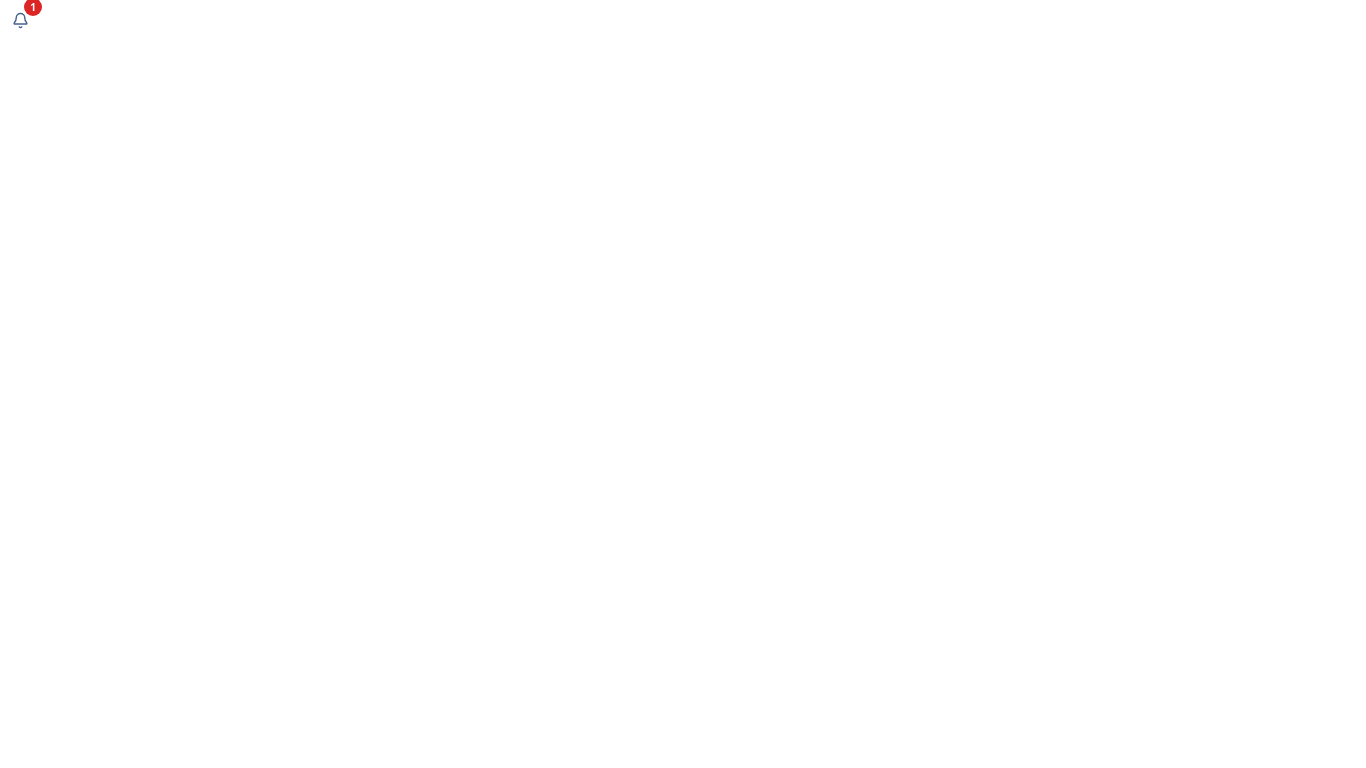
Test: CampanaNotificaciones › limpia todas las notificaciones
Click the button named "Notificaciones: 1 sin leer".
click(20, 20)  # box x1=0 y1=0 x2=40 y2=40
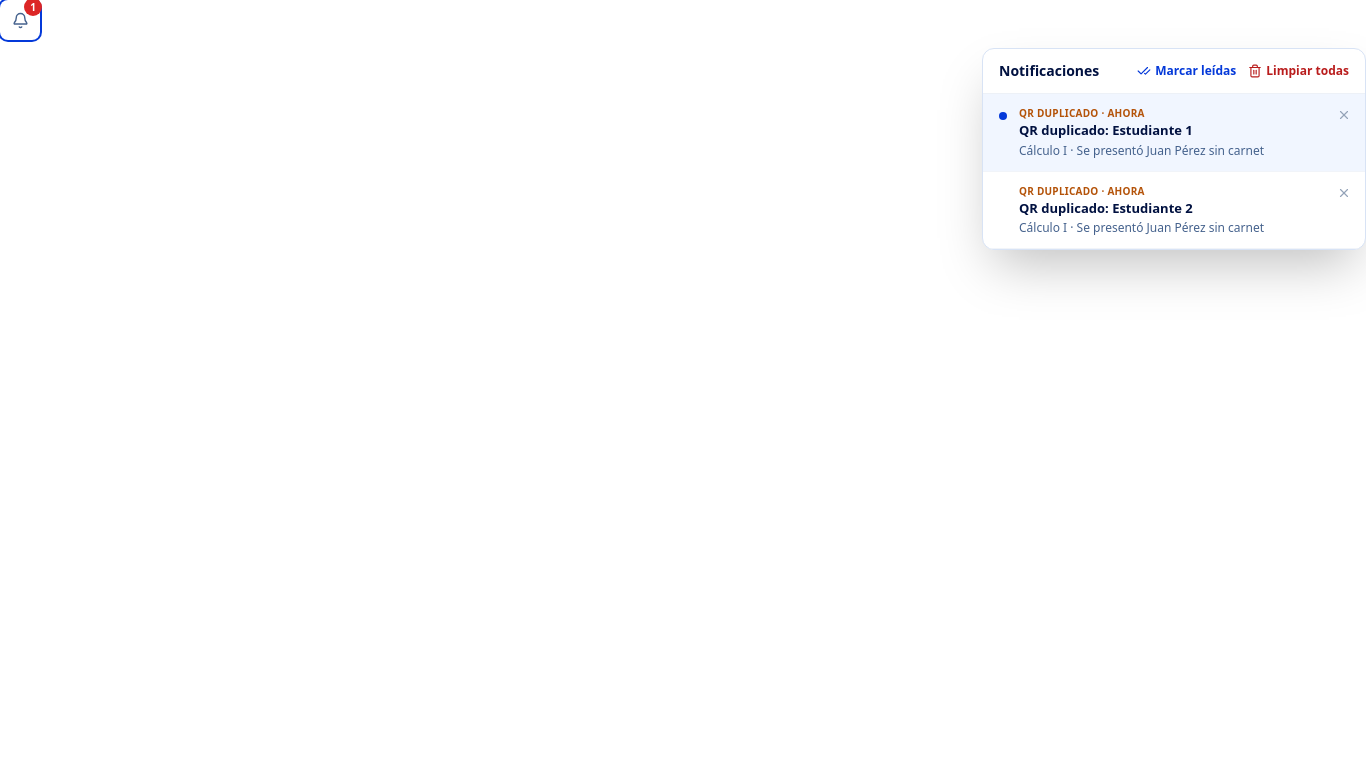
Click the button "Limpiar todas".
click(1299, 71)  # box x1=1248 y1=63 x2=1349 y2=79
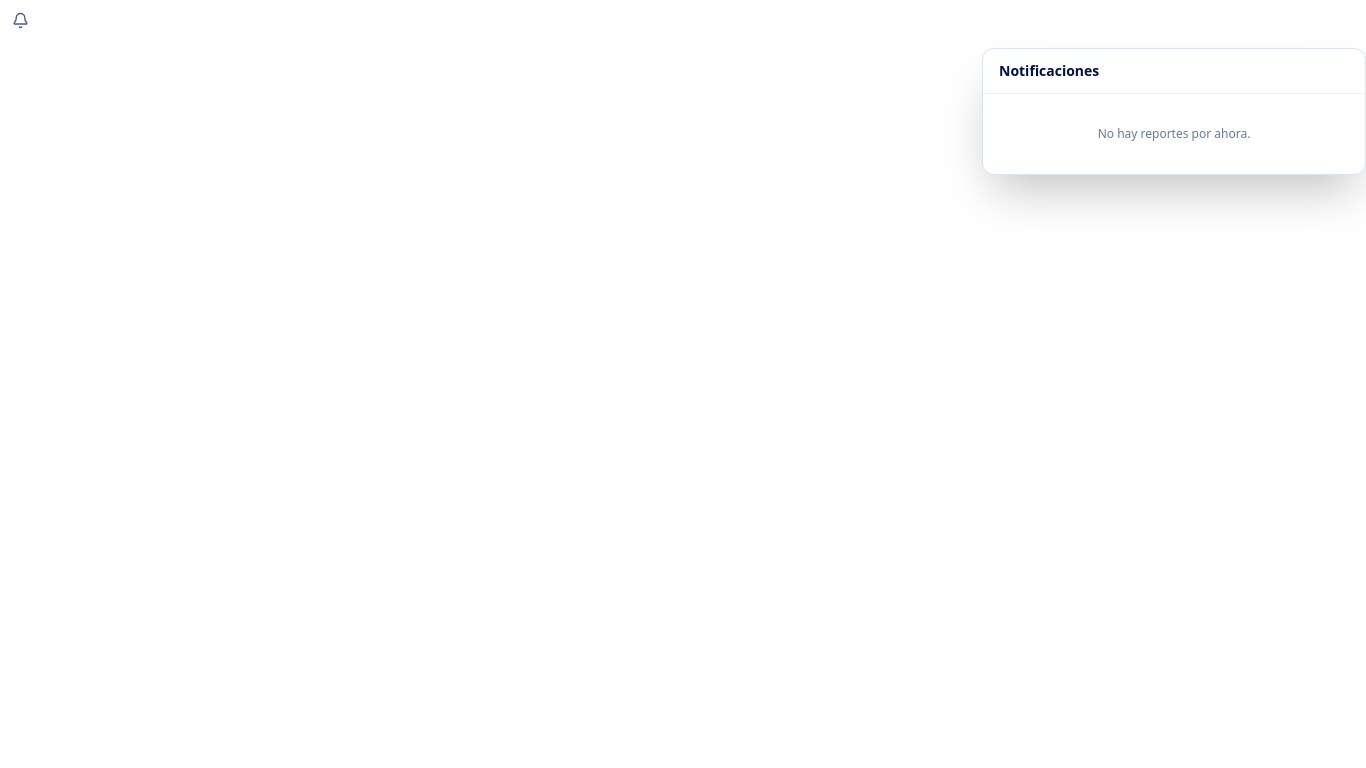
Expected: the button named "Notificaciones" is shown, x1=0 y1=0 x2=40 y2=40
Expected: the list item "No hay reportes por ahora." is shown, x1=1098 y1=125 x2=1250 y2=142
Expected: the button "Limpiar todas" is gone
